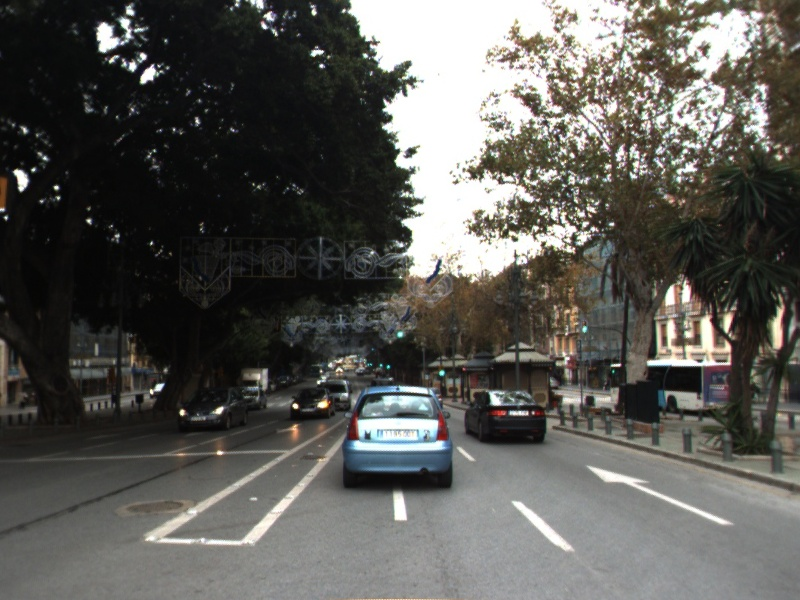STRAIGHT: (585, 464, 736, 527)
